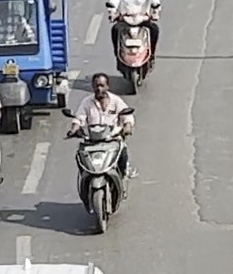BikeWithRider: (59, 67, 142, 240)
NoHelmet: (88, 70, 114, 97)
